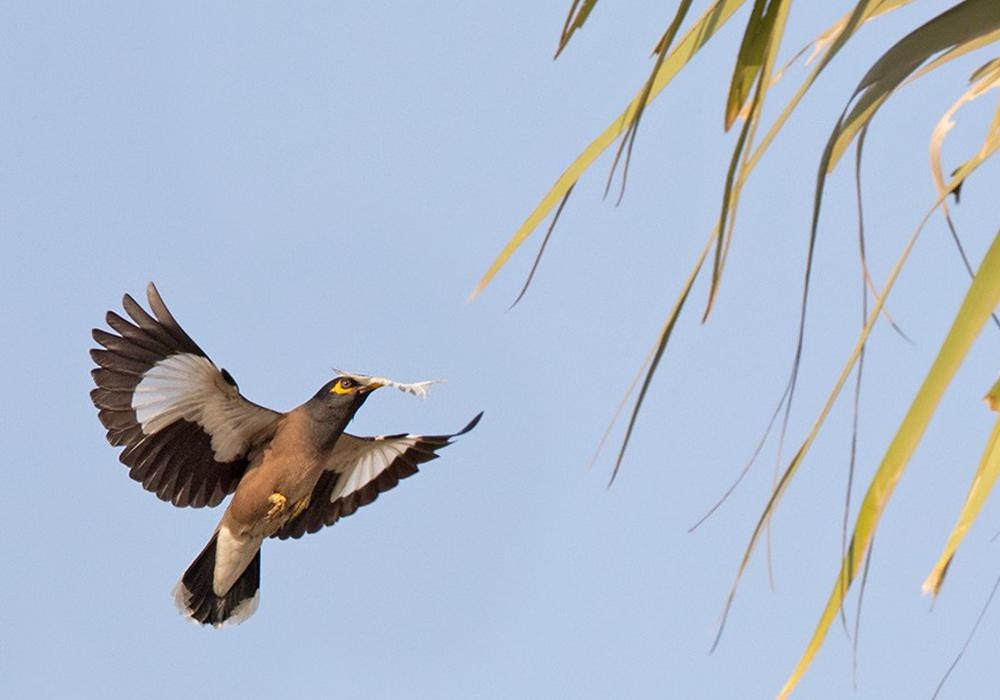myna: (83, 286, 528, 638)
